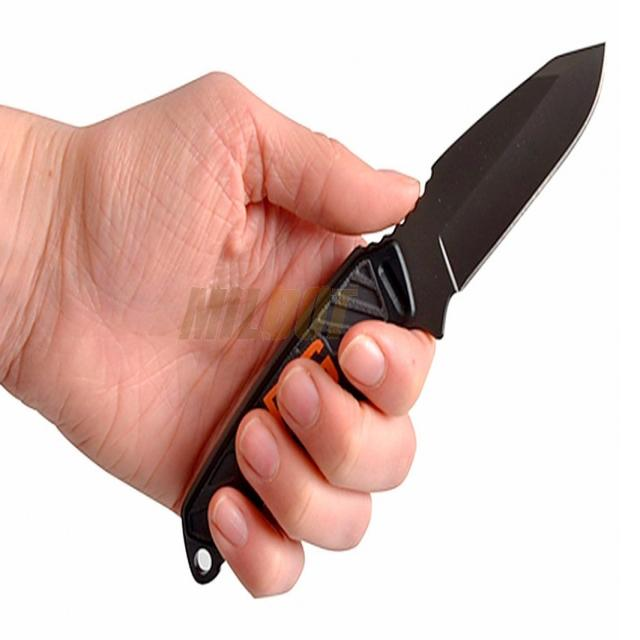knife: (182, 32, 610, 590)
